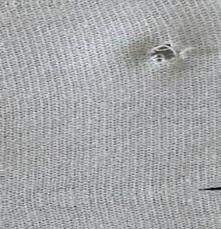hole: (146, 37, 185, 66)
